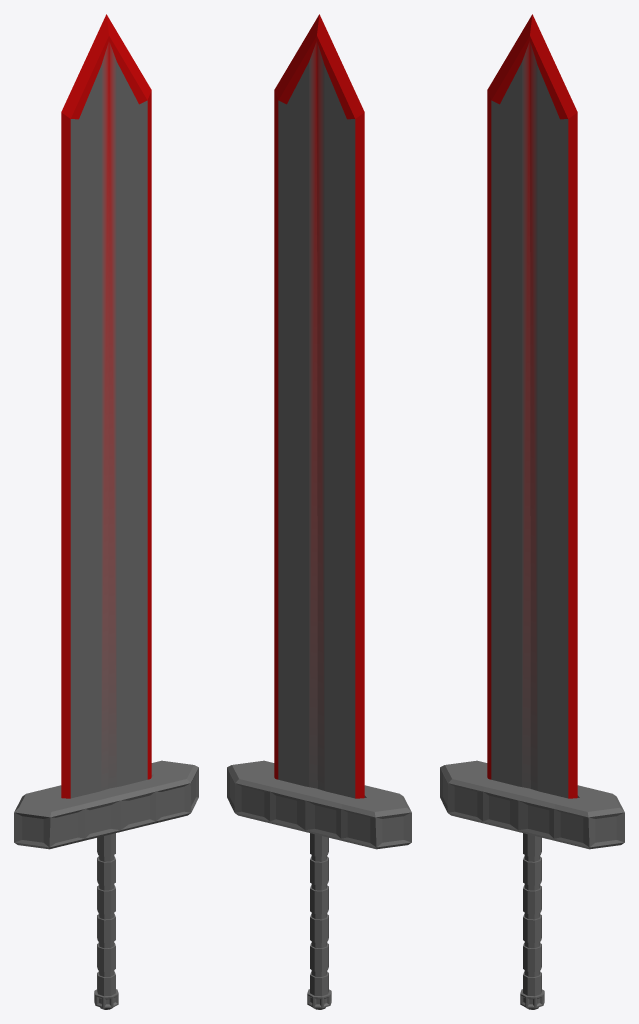
The model's file is Espada.fbx.
3 views of the same model, side by side, from view 1: azimuth 30°, elevation 25°; view 2: azimuth 150°, elevation 25°; view 3: azimuth 330°, elevation 25° (orthographic).
Parts seen in each view (by area): view 1: Espada; view 2: Espada; view 3: Espada.
Boxes of the visible parts, x1=… form: Espada: x1=14, y1=14, x2=198, y2=1009; Espada: x1=227, y1=14, x2=411, y2=1009; Espada: x1=440, y1=14, x2=624, y2=1009.
Bounding box in the file's own units: 261 × 1340 × 69.61.
